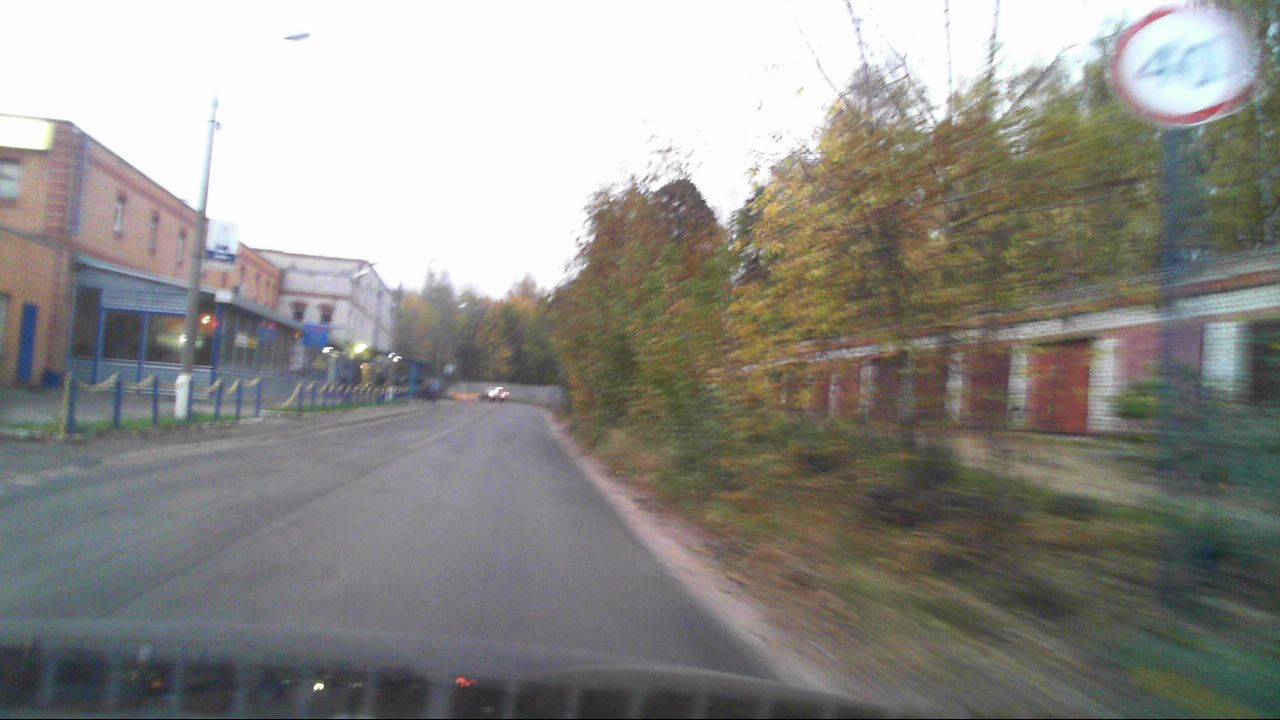speed_warning_40: (1109, 8, 1246, 130)
